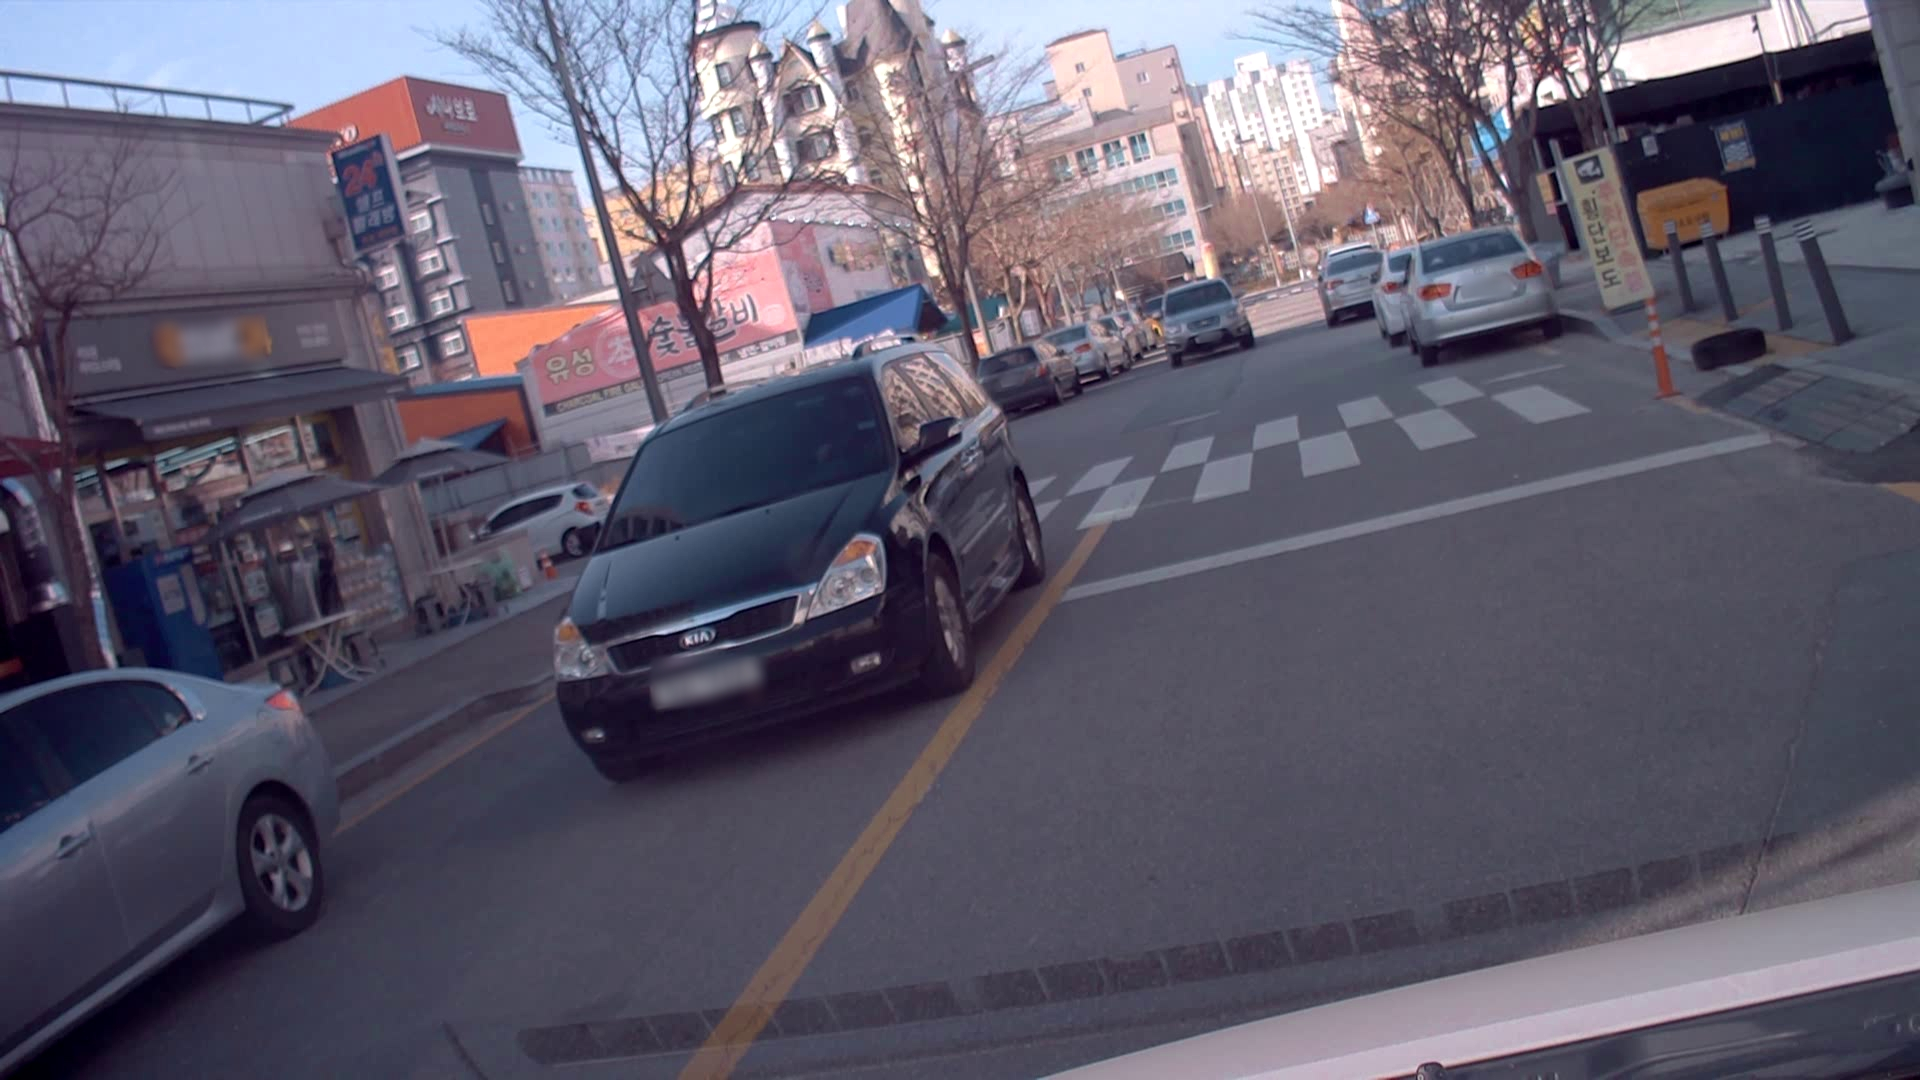trafficSignTri: (1361, 204, 1382, 225)
